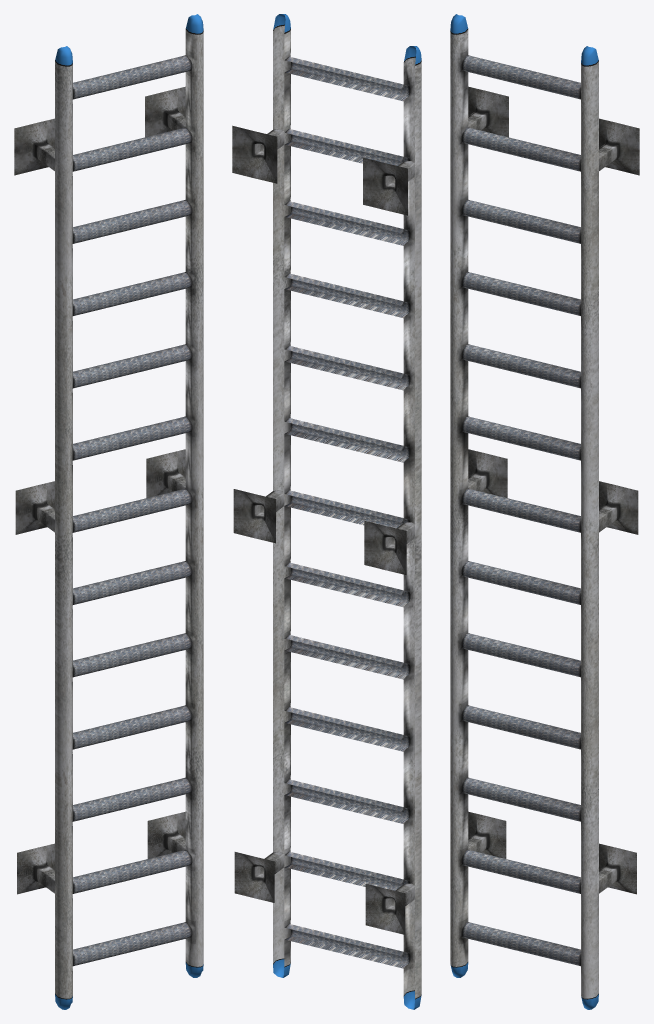
The model's file is Ladder.fbx.
3 renders of one model, left to right at view 1: azimuth 30°, elevation 25°; view 2: azimuth 150°, elevation 25°; view 3: azimuth 330°, elevation 25°, orthographic.
Visible parts, largest first — view 1: pCube3; view 2: pCube3; view 3: pCube3.
Part boxes in pixels (<box>): pCube3: <box>14,14,203,1009</box>; pCube3: <box>232,14,421,1009</box>; pCube3: <box>450,14,639,1009</box>.
Bounding box in the file's own units: 76.37 × 400 × 25.12.
